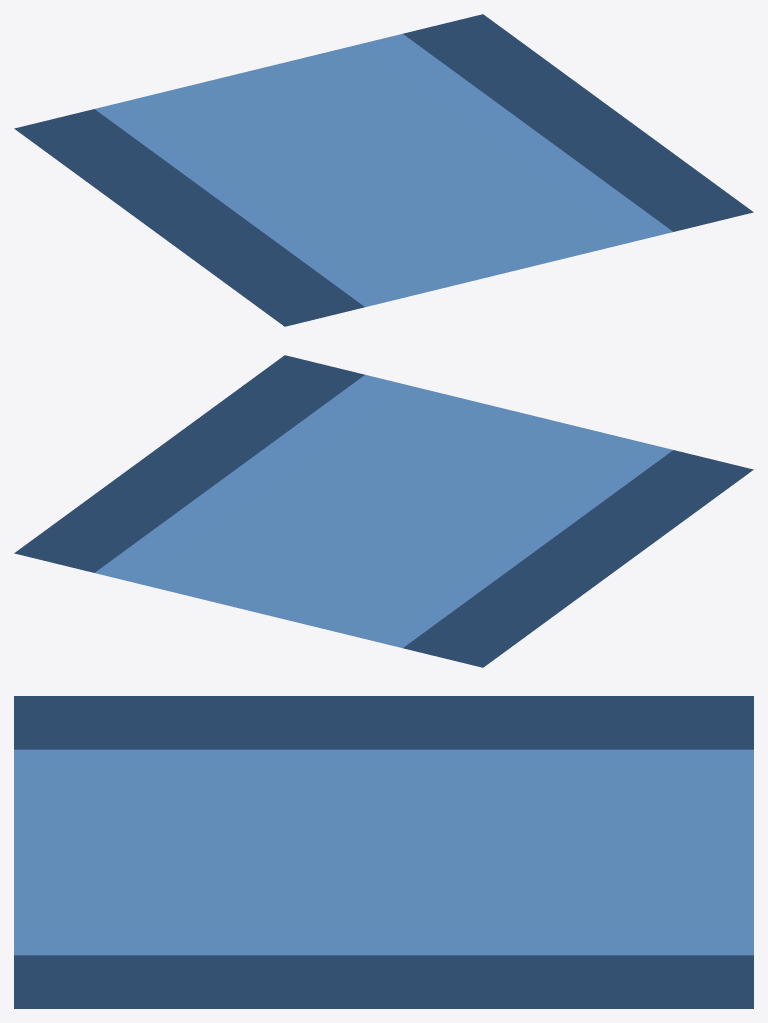
Rendered from M_FloorCross700x700Blue100-3.fbx.
3 views of the same model, one above another, from view 1: azimuth 30°, elevation 25°; view 2: azimuth 150°, elevation 25°; view 3: azimuth 270°, elevation 25° (orthographic). The views are drawn at different scales.
Parts seen in each view (by area): view 1: M_FloorCross700x700Blue100-3; view 2: M_FloorCross700x700Blue100-3; view 3: M_FloorCross700x700Blue100-3.
Boxes of the visible parts, x1,y1,x2,y2 form: M_FloorCross700x700Blue100-3: (14, 14, 753, 326); M_FloorCross700x700Blue100-3: (14, 355, 753, 667); M_FloorCross700x700Blue100-3: (14, 696, 753, 1008).
Size of the model in its own units: 700 by 700 by 6.53e-22.
